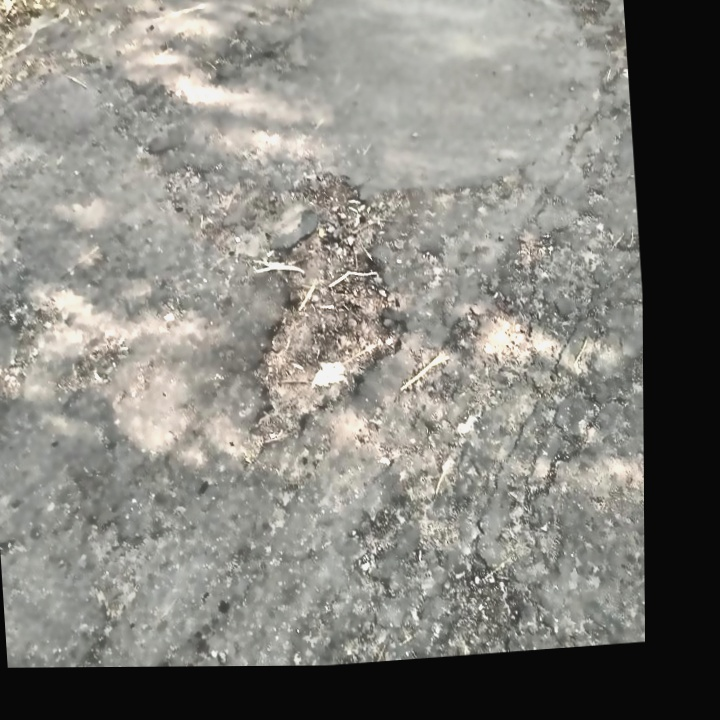pothole: (229, 165, 420, 450)
